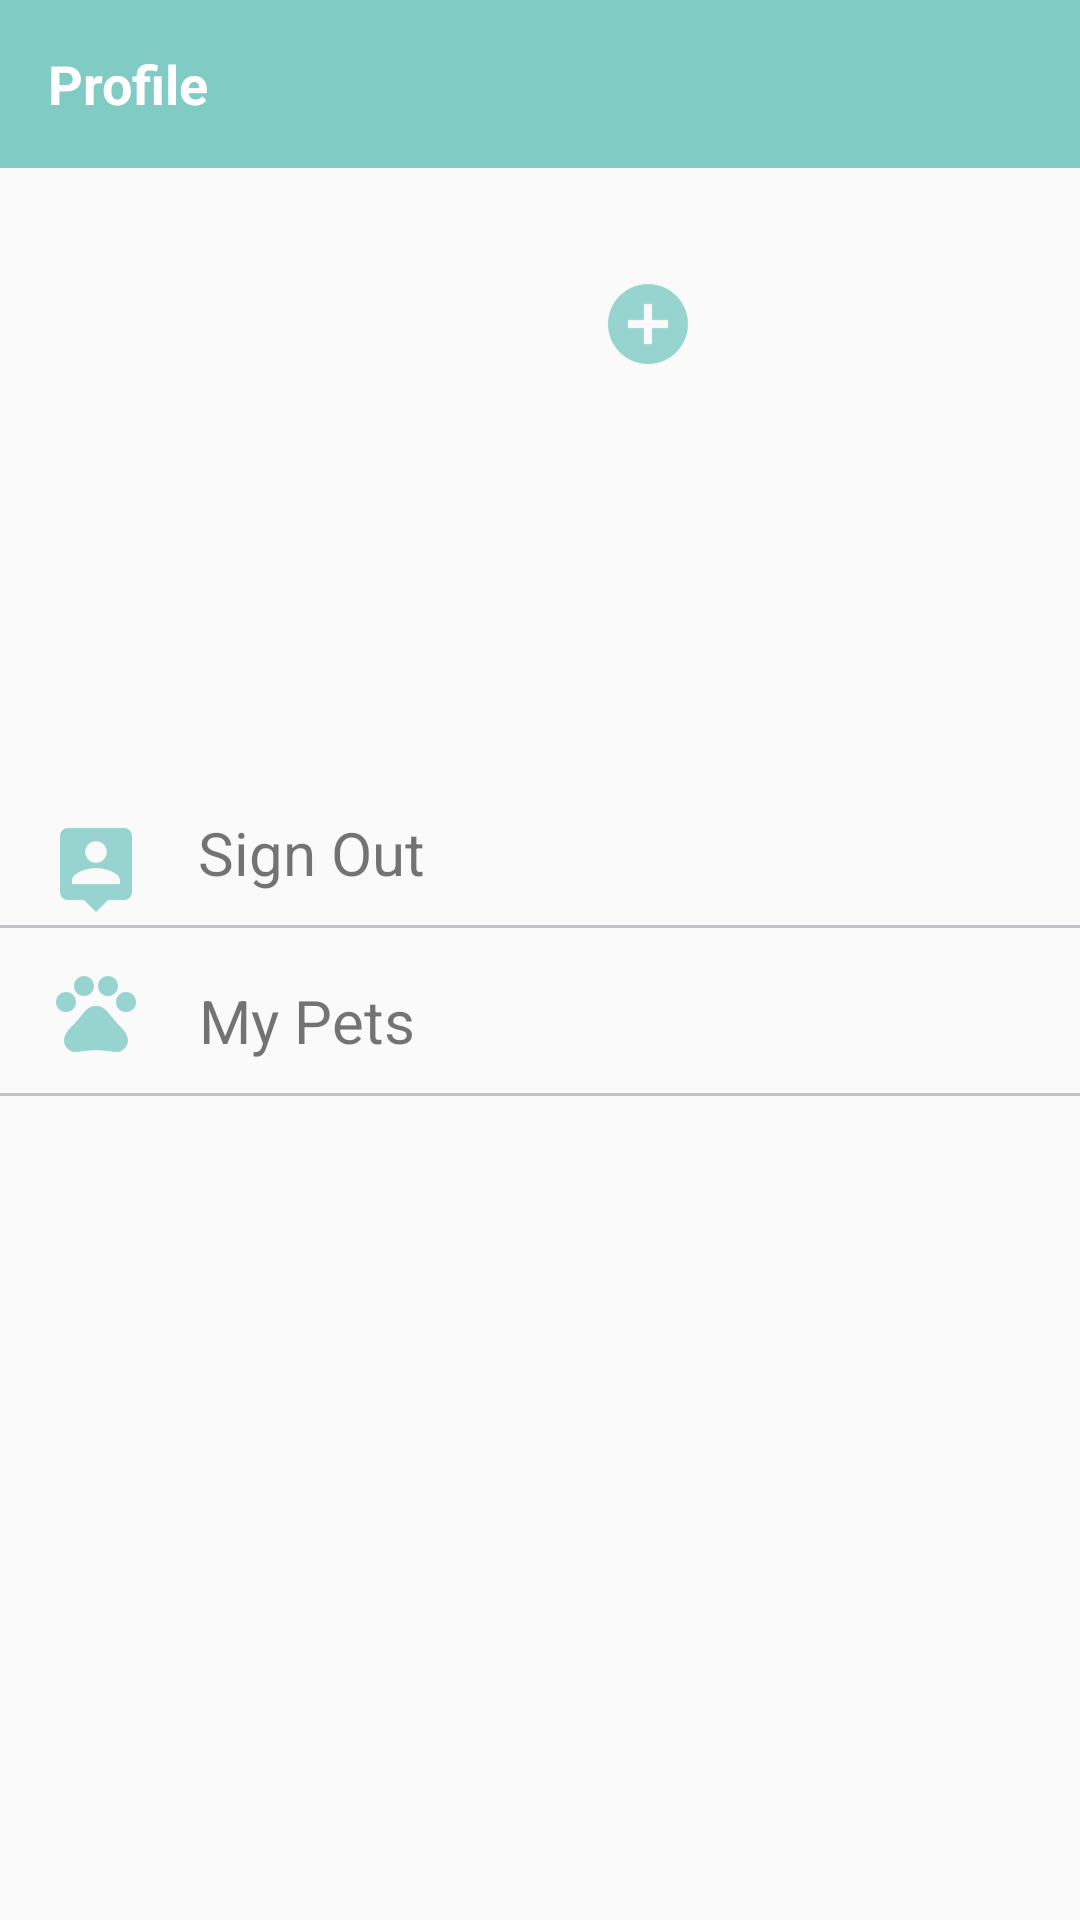

Named icons in this screenshot (1080 × 1920) and their bounding boxes, (x1, y1, x2, y2):
add circle: (608, 284, 688, 364)
pet paw: (56, 976, 136, 1052)
